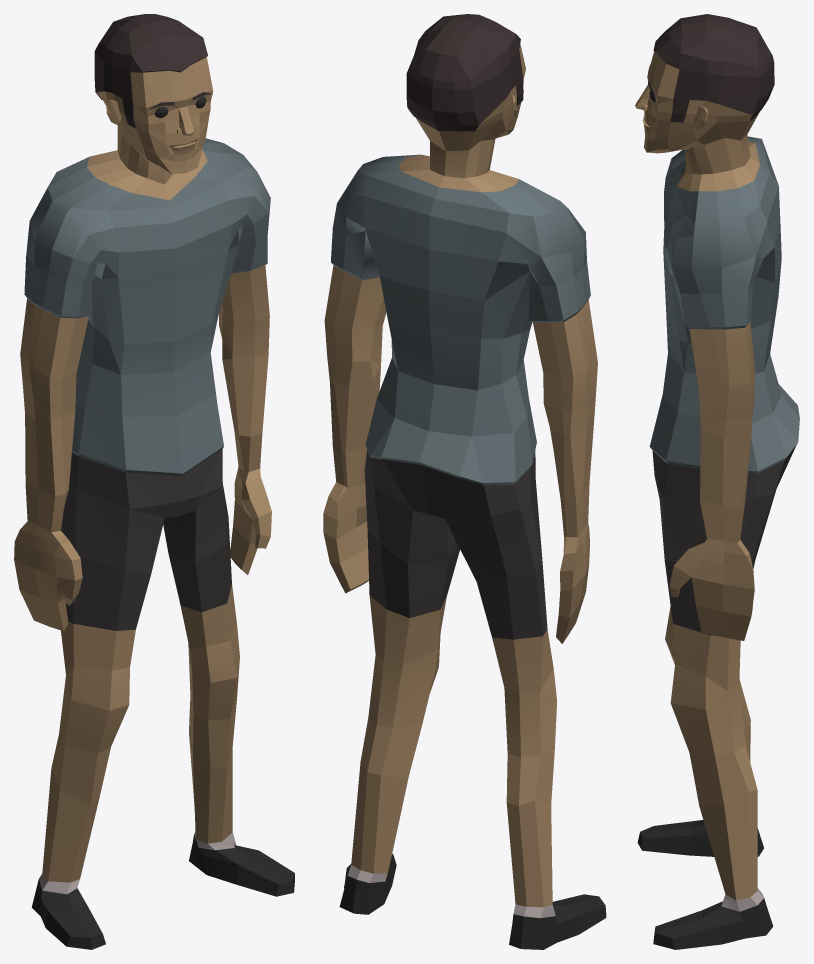
The model's file is person_m.glb.
3 views of the same model, side by side, from view 1: azimuth 30°, elevation 25°; view 2: azimuth 150°, elevation 25°; view 3: azimuth 270°, elevation 25° (orthographic). The views are drawn at different scales.
Visible parts, largest first — view 1: BaseHuman; view 2: BaseHuman; view 3: BaseHuman.
Part boxes in pixels (left/top/right/bottom): BaseHuman: left=14, top=14, right=294, bottom=949; BaseHuman: left=323, top=14, right=606, bottom=949; BaseHuman: left=635, top=14, right=799, bottom=949.
Size of the model in its own units: 1.42 by 4.81 by 0.8267.
